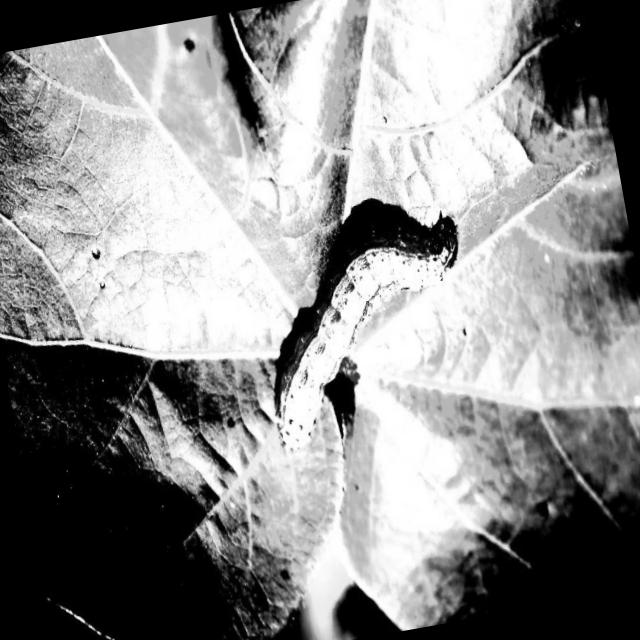Armyworm: (214, 157, 522, 521)
